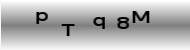8: (115, 16, 129, 29)
M: (131, 10, 149, 24)
T: (60, 23, 76, 37)
p: (34, 10, 49, 26)
q: (92, 15, 106, 30)
